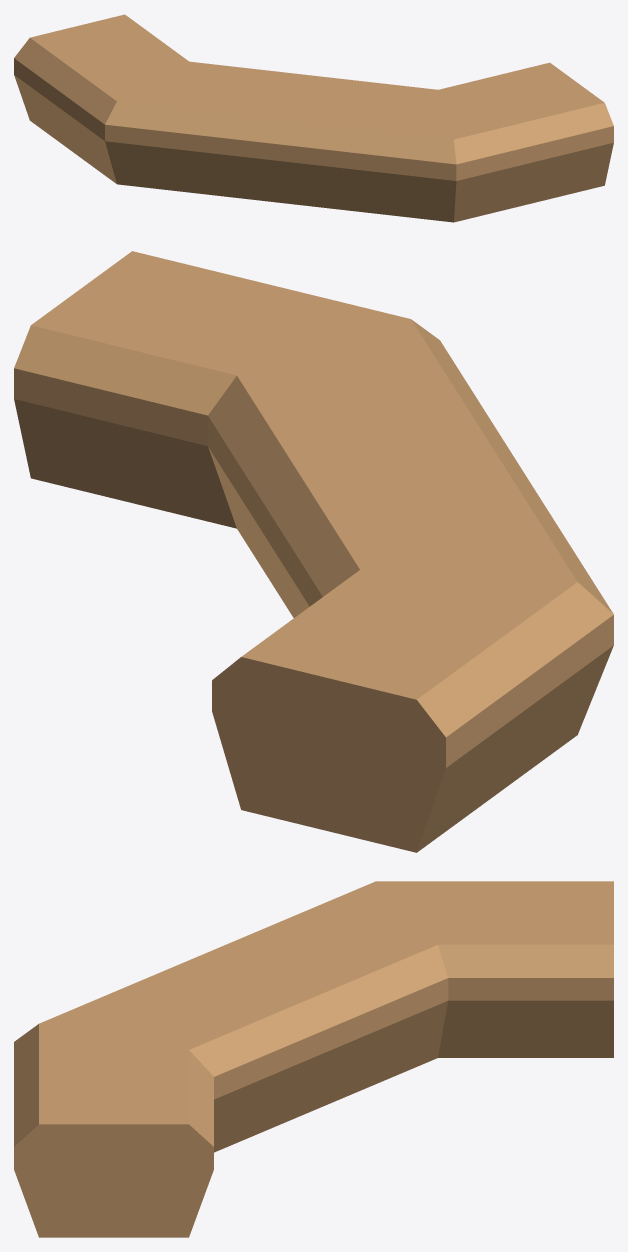
The model's file is Wall_Curved_Small_Top.fbx.
The picture shows the model from 3 angles, top to bottom: view 1: azimuth 30°, elevation 25°; view 2: azimuth 150°, elevation 25°; view 3: azimuth 270°, elevation 25°; orthographic projection. The views are drawn at different scales.
Visible parts, largest first — view 1: object1; view 2: object1; view 3: object1.
Boxes of the visible parts, x1,y1,x2,y2 form: object1: (14, 14, 613, 222); object1: (14, 251, 613, 852); object1: (14, 881, 613, 1237).
Bounding box in the file's own units: 1.2 × 0.25 × 1.2.
